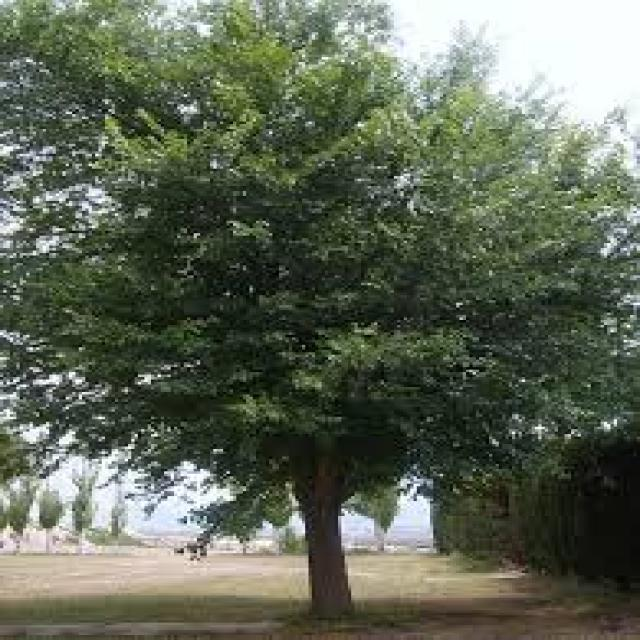olmo: (28, 40, 640, 617)
